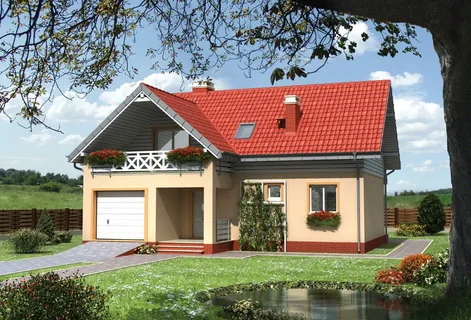private_hause: (83, 77, 404, 247)
